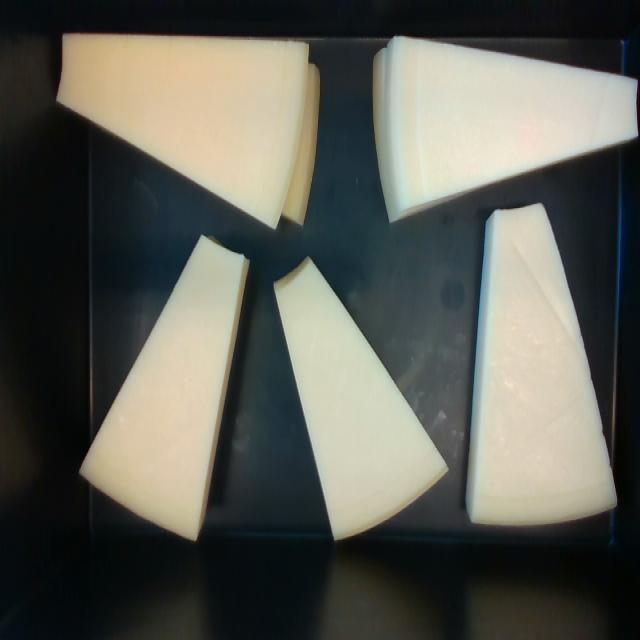Cheese: (81, 236, 248, 539), (57, 33, 307, 228), (275, 260, 447, 539), (466, 204, 614, 523), (388, 36, 637, 215)
